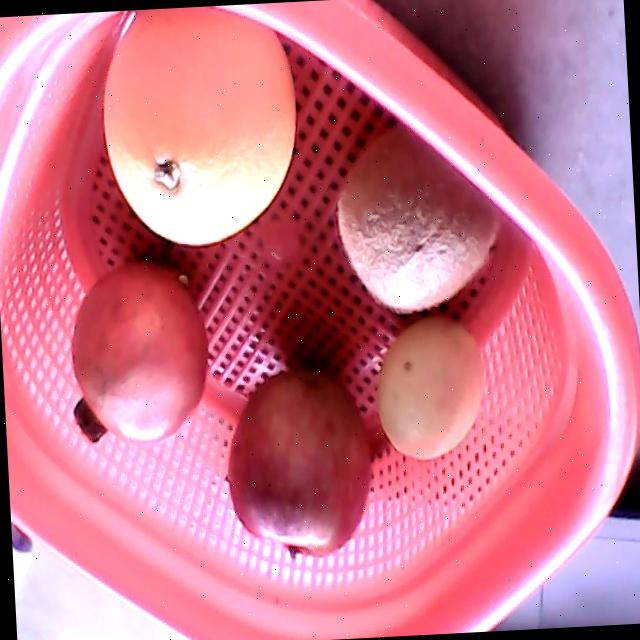apple: (226, 368, 371, 559)
kiwi: (335, 123, 506, 312)
lemon: (376, 314, 485, 460)
orange: (103, 6, 296, 244)
pomegranate: (71, 261, 207, 442)
